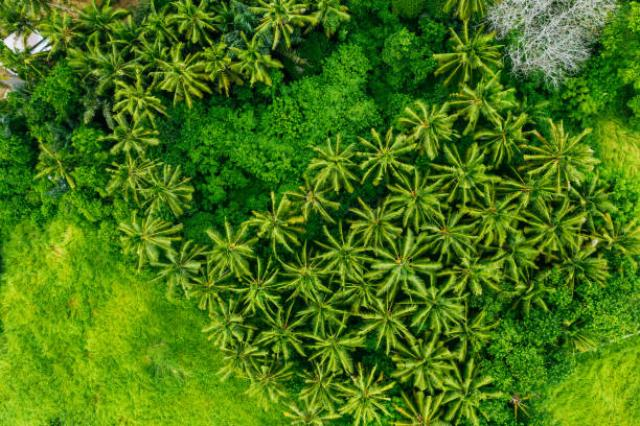trees: (520, 121, 601, 194), (352, 285, 427, 359), (438, 234, 511, 307), (366, 231, 441, 302), (382, 163, 452, 237), (433, 24, 504, 94), (276, 241, 344, 313), (60, 3, 134, 67), (311, 223, 376, 295), (81, 39, 145, 111), (420, 206, 487, 273), (448, 88, 517, 153), (462, 191, 528, 257), (405, 282, 473, 345), (306, 134, 365, 206), (392, 340, 464, 399), (149, 49, 218, 109), (149, 234, 210, 301), (246, 192, 310, 254), (357, 128, 419, 192), (300, 322, 365, 383), (284, 368, 352, 426), (118, 212, 183, 272), (109, 67, 169, 132), (203, 221, 263, 285), (436, 149, 495, 213), (107, 147, 166, 209), (435, 373, 504, 426), (230, 260, 288, 323), (187, 42, 248, 101), (347, 203, 406, 264), (336, 370, 400, 426), (226, 37, 287, 94), (398, 101, 458, 157), (590, 205, 640, 271), (142, 163, 198, 221), (32, 136, 85, 195), (248, 3, 309, 50), (163, 2, 223, 48), (566, 249, 617, 298), (107, 118, 161, 162), (36, 10, 80, 56), (315, 3, 353, 38)
